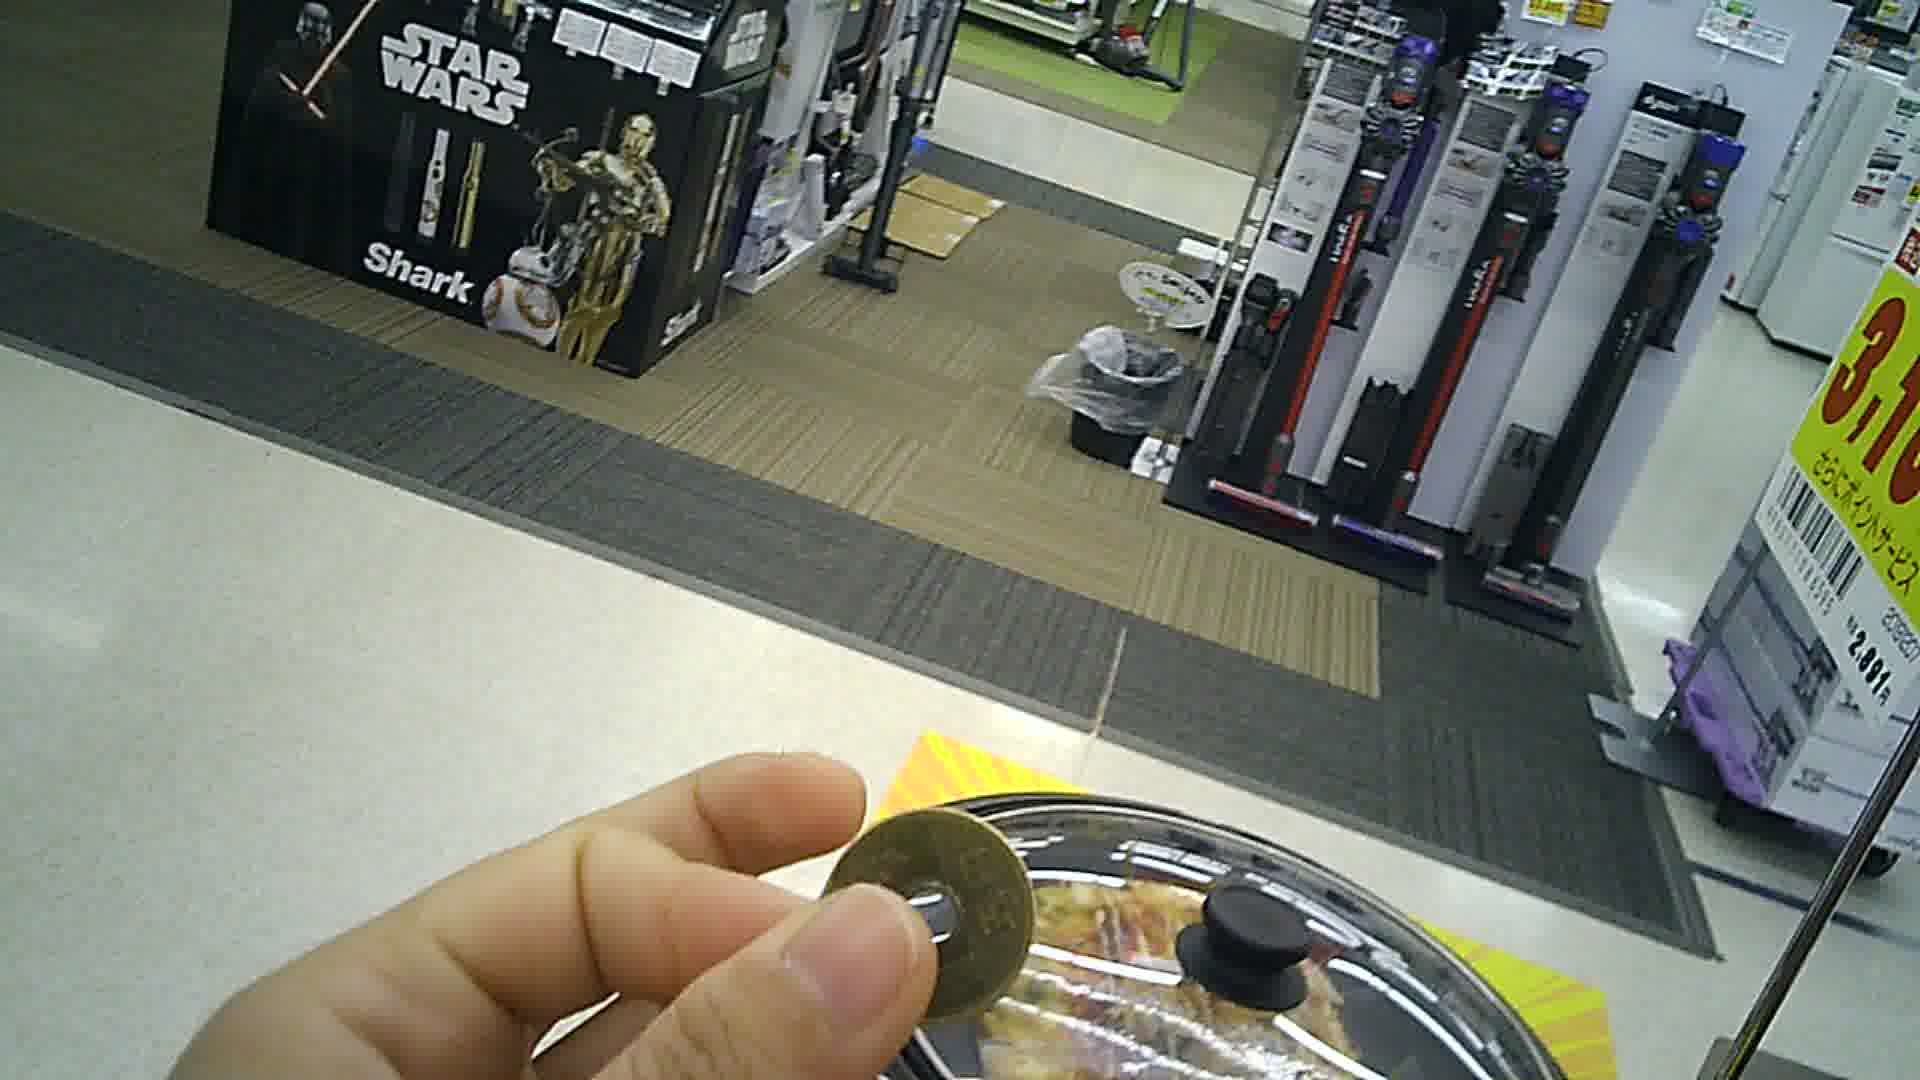5 Yen: (822, 804, 1040, 1025)
